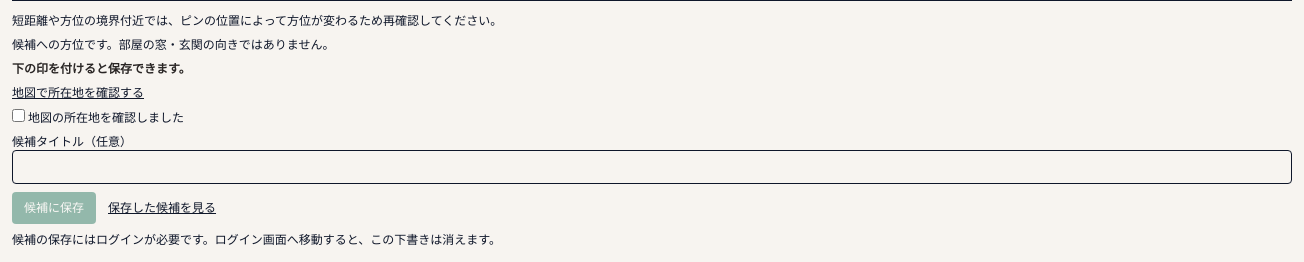
Scenario: 候補の保存: 入口の手間 › 地図で指した点は、地図を開かなくても印を付けられる
expect the text "下の印を付けると保存できます。" is shown: met, box [12, 61, 191, 77]
What coordinates should you click on to do the following:
click the checkbox labelled "地図の所在地を確認しました"
I would click on:
 (18, 116)
Its box is [12, 109, 25, 122].
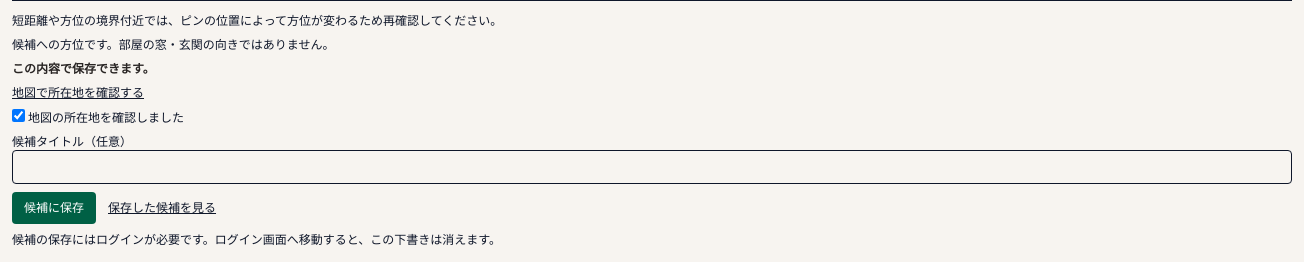
expect the checkbox labelled "地図の所在地を確認しました" is checked: met, box [12, 109, 25, 122]
expect the text "この内容で保存できます。" is shown: met, box [12, 61, 155, 77]
expect the button "候補に保存" is enabled: met, box [12, 192, 96, 224]
